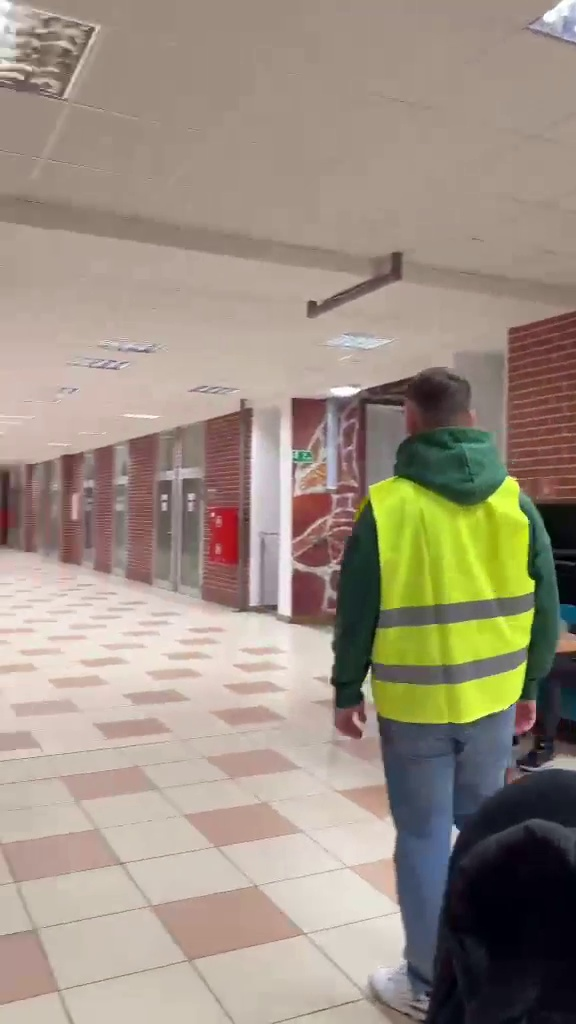vest: (340, 371, 559, 1016)
